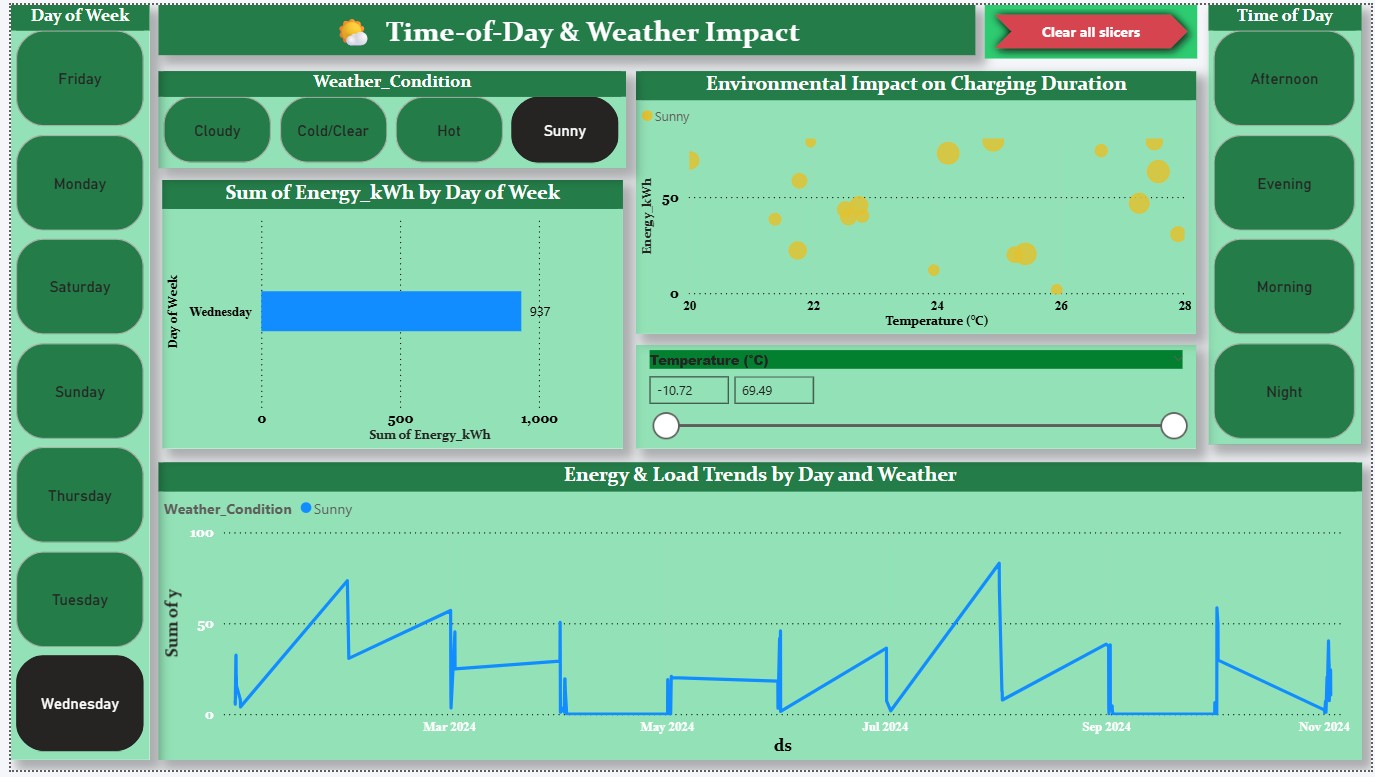

The page's visual inventory and layout, read from the dashboard file:
{"tool":"powerbi","page":{"name":"🌤️  Time-of-Day & Weather Impact","canvas":[1280,720],"ordinal":3},"visuals":[{"type":"lineChart","title":"Energy & Load Trends by Day and Weather","fields":{"Category":["dashboard_station_hourly.ds"],"Series":["dashboard_sessions.Weather_Condition"],"Y":["Sum(dashboard_station_hourly.y)"]},"box":[138.8,430,1132.5,280],"z":0},{"type":"barChart","fields":{"Category":["dashboard_sessions.Day of Week"],"Y":["Sum(dashboard_sessions.Energy_kWh)"]},"box":[142.5,165,433.8,252.5],"z":1000},{"type":"scatterChart","title":"Environmental Impact on Charging Duration","fields":{"X":["dashboard_sessions.Temperature (°C)"],"Size":["Sum(dashboard_sessions.Charging_Duration_hours)"],"Series":["dashboard_sessions.Weather_Condition"],"Y":["dashboard_sessions.Energy_kWh"]},"box":[588.8,62.5,527.5,247.5],"z":2000},{"type":"advancedSlicerVisual","fields":{"Values":["dashboard_sessions.Weather_Condition"]},"box":[138.8,62.5,440,91.2],"z":3000},{"type":"advancedSlicerVisual","fields":{"Values":["dashboard_sessions.Time of Day"]},"box":[1127.5,0,143.8,413.8],"z":4000},{"type":"advancedSlicerVisual","fields":{"Values":["dashboard_sessions.Day of Week"]},"box":[0,0,130,710],"z":5000},{"type":"textbox","box":[138.8,0,768.8,47.5],"z":6000},{"type":"actionButton","box":[916.2,0,200,50],"z":7000},{"type":"slicer","fields":{"Values":["dashboard_sessions.Temperature (°C)"]},"box":[588.8,320,527.5,97.5],"z":8000}]}

Visuals, with their boxes in screenshot pixels (x1, y1, x2, y2), scaled from the page's 1280x720 canvas onto the 1375x777 screenshot:
"Energy & Load Trends by Day and Weather" lineChart: (149, 464, 1366, 766)
barChart - dashboard_sessions.Day of Week x Sum(dashboard_sessions.Energy_kWh): (153, 178, 619, 451)
"Environmental Impact on Charging Duration" scatterChart: (632, 67, 1199, 335)
advancedSlicerVisual - dashboard_sessions.Weather_Condition: (149, 67, 622, 166)
advancedSlicerVisual - dashboard_sessions.Time of Day: (1211, 0, 1366, 447)
advancedSlicerVisual - dashboard_sessions.Day of Week: (0, 0, 140, 766)
textbox: (149, 0, 975, 51)
actionButton: (984, 0, 1199, 54)
slicer - dashboard_sessions.Temperature (°C): (632, 345, 1199, 451)
